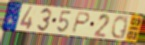2: (92, 13, 111, 39)
3: (36, 8, 53, 33)
4: (19, 6, 34, 31)
5: (56, 10, 73, 34)
P: (70, 11, 91, 35)
Q: (109, 15, 129, 40)
